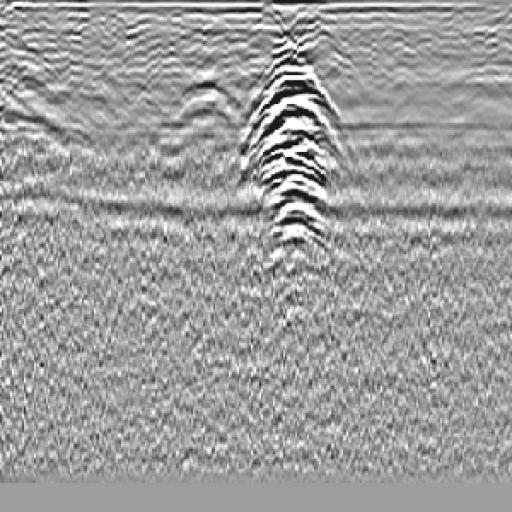metalic: (228, 31, 359, 285)
nonmetalic: (166, 66, 248, 142)
